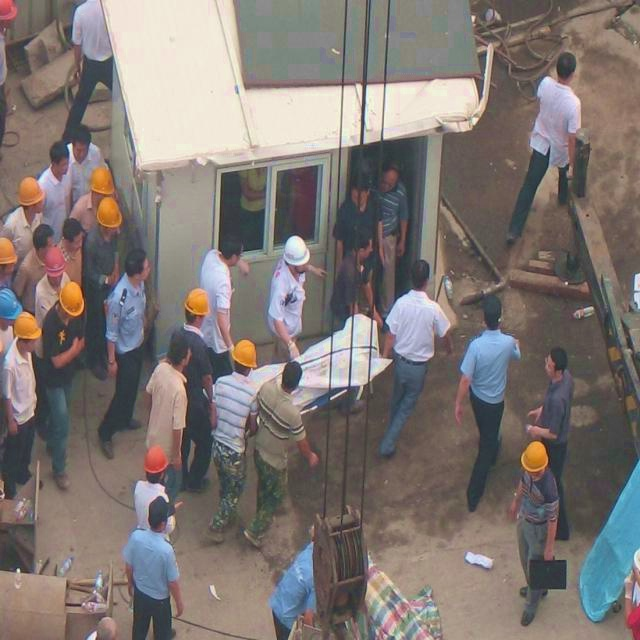Con_Casco: (521, 442, 547, 483), (96, 197, 121, 239), (231, 337, 258, 375), (183, 288, 209, 325)
Sin_Casco_Mascarrilla: (544, 345, 568, 381), (279, 358, 302, 395), (219, 233, 244, 263), (554, 51, 577, 82), (70, 124, 90, 159), (410, 257, 430, 290)
Sin_Chaleco: (132, 533, 175, 604), (471, 334, 513, 397), (396, 293, 436, 358), (214, 379, 250, 450)
